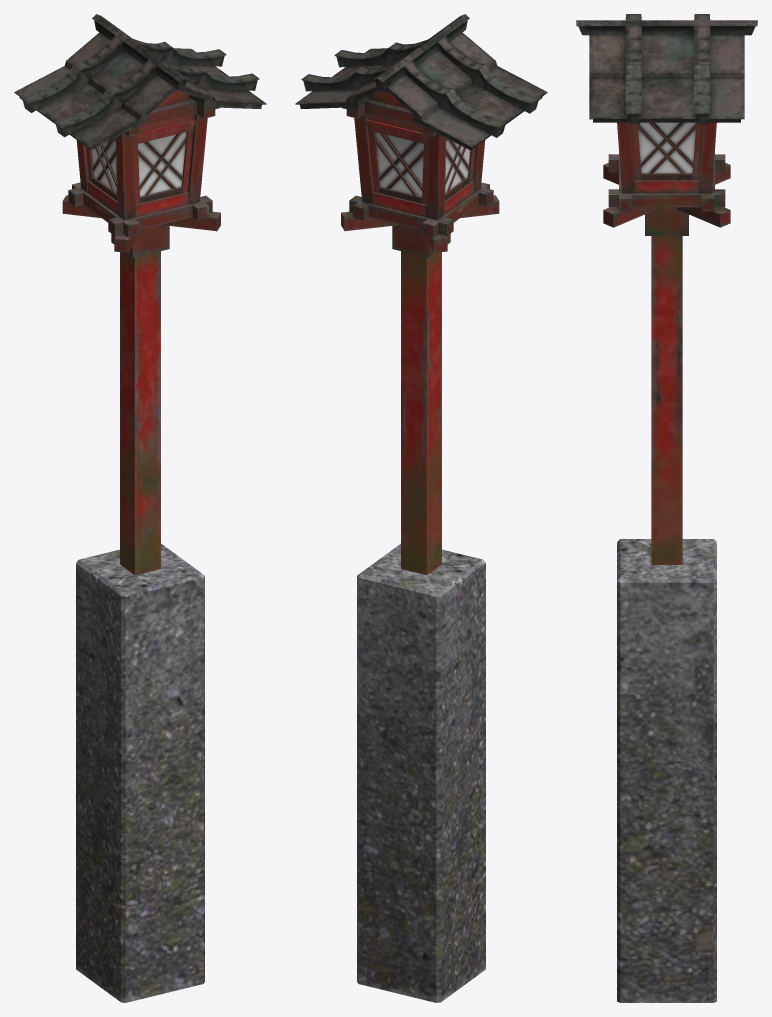
Rendered from SM_pal_b00_ShrineLantern01_ff7918.glb.
3 views of the same model, side by side, from view 1: azimuth 30°, elevation 25°; view 2: azimuth 150°, elevation 25°; view 3: azimuth 270°, elevation 25° (orthographic). The views are drawn at different scales.
Size of the model in its own units: 0.6871 by 3.07 by 0.5259.
Materials: 3 (3 with a texture image).
